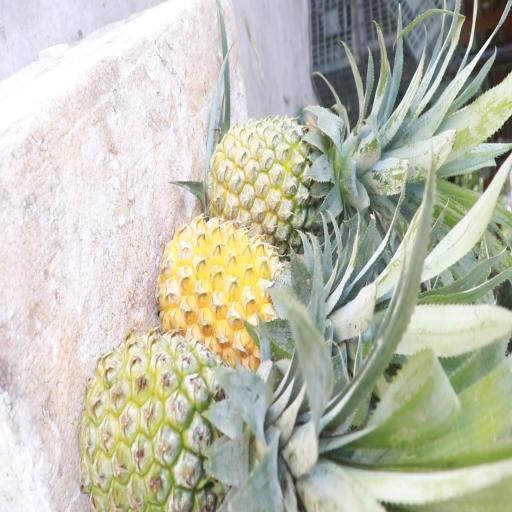------------------------------: (80, 331, 279, 512), (206, 102, 354, 252)
Pineapple - v8 v1: (154, 214, 322, 364)
